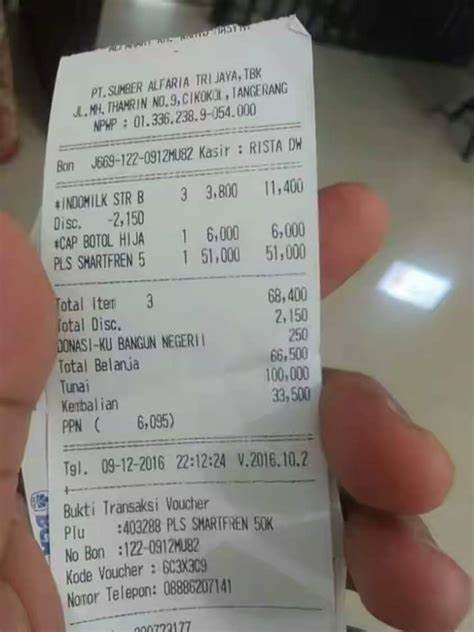total belanja: (48, 281, 318, 312)
